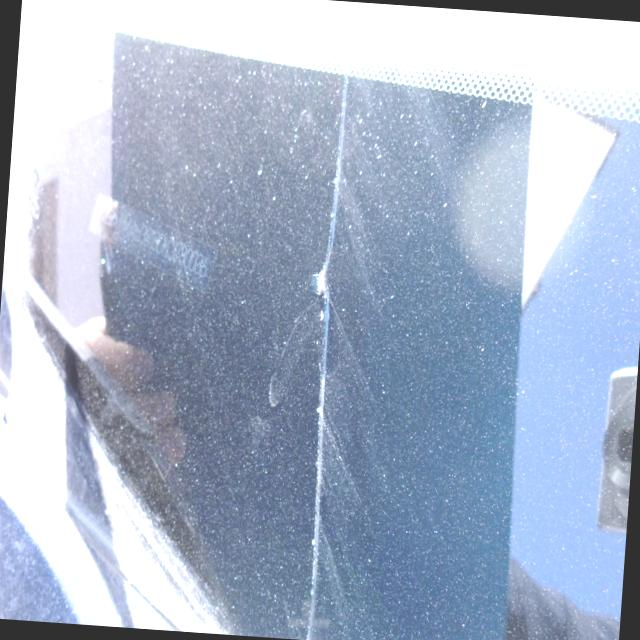Fissure: (281, 22, 378, 640)
